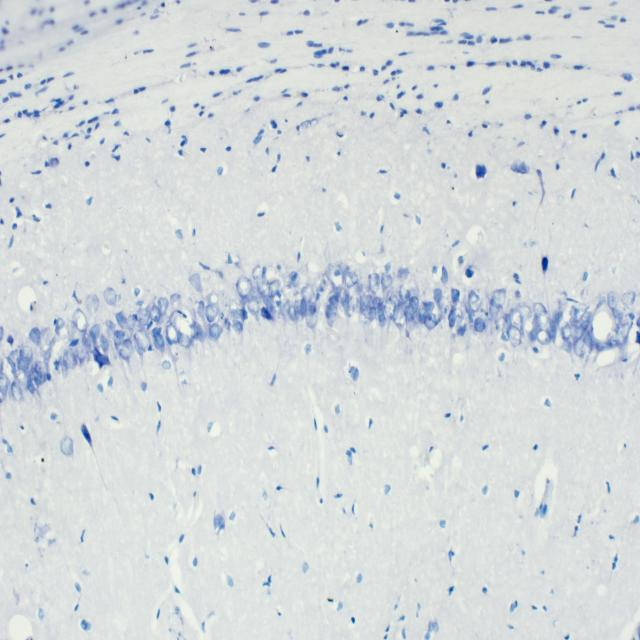neuron: (30, 362, 47, 387), (72, 308, 88, 332), (134, 330, 151, 352), (63, 348, 78, 371), (393, 302, 406, 328), (40, 327, 56, 347), (467, 291, 483, 311), (85, 293, 100, 314), (508, 308, 523, 329), (615, 324, 629, 346), (237, 277, 252, 297), (507, 326, 522, 346), (19, 344, 33, 365), (134, 308, 150, 326), (368, 272, 380, 296), (301, 283, 315, 303), (75, 338, 87, 361), (15, 369, 28, 390), (40, 340, 53, 361), (268, 278, 281, 299), (620, 290, 636, 307), (165, 325, 179, 344), (189, 273, 203, 292), (11, 380, 23, 402), (120, 338, 132, 360), (416, 303, 428, 325), (582, 331, 594, 353), (82, 332, 95, 352), (229, 300, 242, 320), (256, 274, 269, 294), (536, 329, 552, 345), (344, 272, 358, 290), (357, 276, 371, 294), (398, 284, 409, 306), (384, 298, 396, 318), (491, 290, 506, 306), (574, 338, 586, 358), (177, 331, 191, 348), (205, 305, 219, 322), (247, 299, 261, 316), (533, 301, 547, 318), (104, 288, 117, 306), (359, 294, 372, 312), (59, 324, 70, 345), (517, 304, 531, 320), (570, 324, 584, 340), (539, 310, 550, 330), (34, 360, 46, 378), (115, 311, 127, 329), (153, 334, 165, 352), (262, 293, 274, 311), (306, 309, 318, 327), (377, 302, 386, 326), (607, 290, 619, 308), (16, 356, 30, 371), (30, 327, 41, 346), (158, 297, 169, 316), (196, 323, 207, 342), (381, 272, 394, 288), (424, 312, 437, 328), (455, 322, 468, 338), (60, 356, 69, 378), (150, 304, 161, 322), (170, 293, 181, 311), (287, 304, 298, 322), (489, 301, 502, 316), (611, 306, 624, 321), (398, 267, 410, 283), (454, 308, 464, 327), (580, 311, 591, 328), (422, 301, 435, 315), (497, 317, 510, 331), (100, 335, 110, 353), (347, 296, 355, 318), (474, 317, 485, 333), (440, 266, 449, 285), (90, 323, 100, 340), (409, 296, 419, 313), (404, 304, 414, 321), (561, 322, 571, 339), (208, 292, 220, 306), (328, 312, 340, 326), (114, 330, 125, 345), (209, 324, 220, 339), (290, 271, 301, 286), (0, 377, 8, 397), (299, 299, 307, 319), (450, 288, 460, 304), (562, 338, 572, 354), (232, 320, 243, 334), (448, 308, 456, 327), (106, 320, 116, 335), (126, 314, 136, 329), (528, 328, 538, 343), (198, 301, 206, 319), (252, 264, 261, 280), (281, 301, 289, 319), (534, 314, 542, 332), (55, 316, 65, 330), (368, 306, 376, 323), (26, 379, 34, 395), (293, 291, 304, 302), (433, 289, 442, 302), (554, 311, 563, 324), (152, 327, 162, 338), (372, 296, 383, 306), (329, 294, 338, 306), (161, 360, 171, 370), (325, 304, 332, 318), (550, 324, 557, 338), (384, 262, 392, 274)
